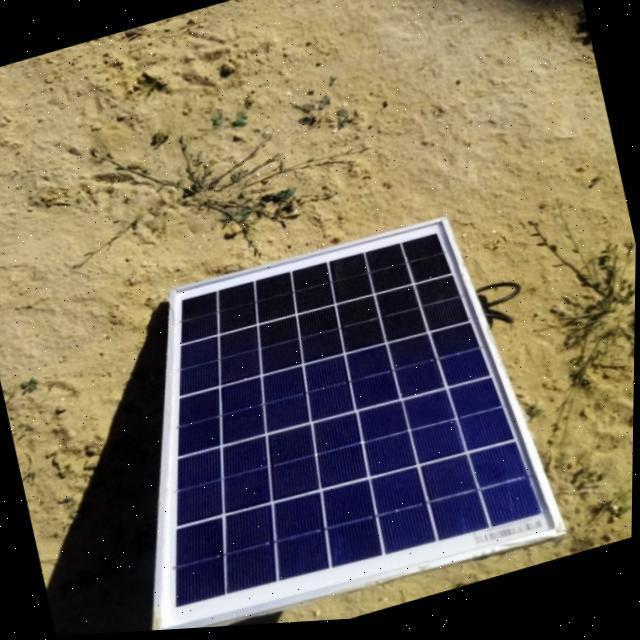Normal Solar Panel: (86, 198, 570, 636)
